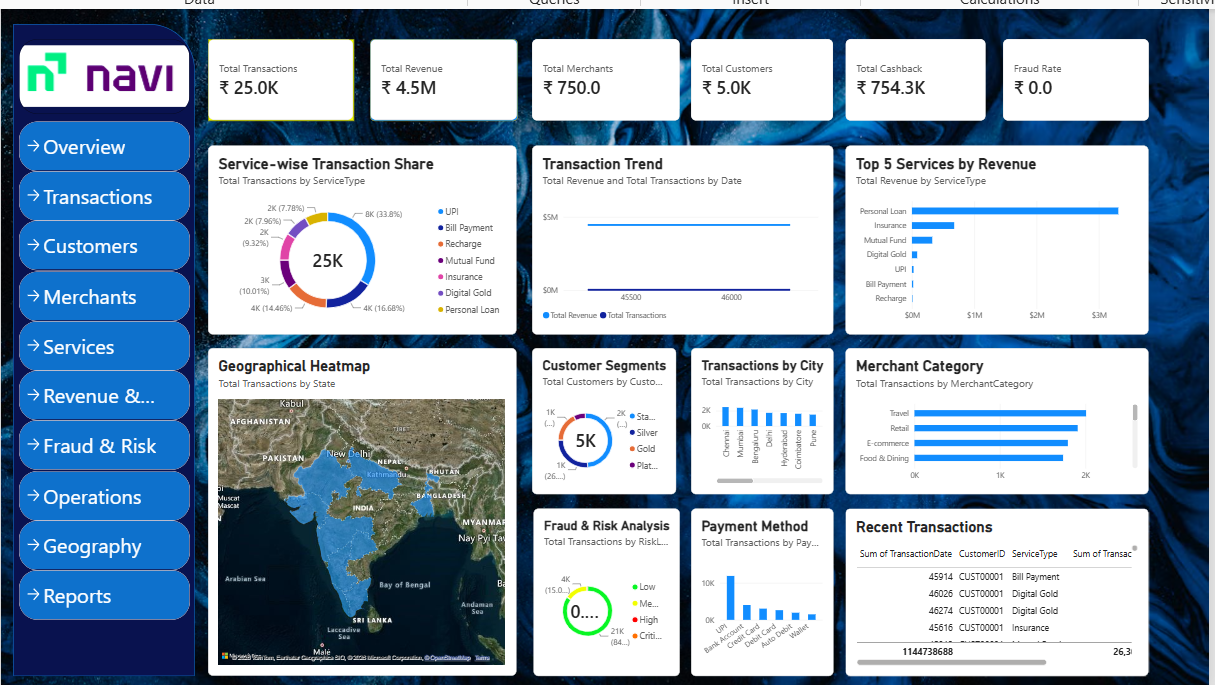

The page's visual inventory and layout, read from the dashboard file:
{"tool":"powerbi","page":{"name":"Overview","canvas":[1920,1080],"ordinal":1},"visuals":[{"type":"cardVisual","fields":{"Data":["_Measures.Total Transactions"]},"box":[328.8,48.2,232.4,130.4],"z":0},{"type":"cardVisual","fields":{"Data":["_Measures.Total Revenue"]},"box":[586.8,48.2,235.3,130.4],"z":1000},{"type":"cardVisual","fields":{"Data":["_Measures.Total Merchants"]},"box":[844.7,48.2,235.3,130.4],"z":2000},{"type":"cardVisual","fields":{"Data":["_Measures.Total Customers"]},"box":[1097,48.2,226.8,130.4],"z":3000},{"type":"cardVisual","fields":{"Data":["_Measures.Total Cashback"]},"box":[1343.6,48.2,223.9,130.4],"z":4000},{"type":"cardVisual","fields":{"Data":["_Measures.Fraud Rate"]},"box":[1593.1,48.2,232.4,130.4],"z":5000},{"type":"donutChart","title":"Service-wise Transaction Share","fields":{"Category":["FactTransactions.ServiceType"],"Y":["_Measures.Total Transactions"]},"box":[328.8,218.3,490.4,300.5],"z":6000},{"type":"lineChart","title":"Transaction Trend","fields":{"Category":["DimDate.Date"],"Y":["_Measures.Total Revenue","_Measures.Total Transactions"]},"box":[844.7,218.3,479.1,300.5],"z":7000},{"type":"clusteredBarChart","title":"Top 5 Services by Revenue","fields":{"Category":["FactTransactions.ServiceType"],"Y":["_Measures.Total Revenue"]},"box":[1343.6,218.3,481.9,300.5],"z":8000},{"type":"donutChart","title":"Customer Segments","fields":{"Category":["DimCustomer.CustomerSegment"],"Y":["_Measures.Total Customers"]},"box":[844.7,538.6,229.6,232.4],"z":9000},{"type":"clusteredColumnChart","title":"Transactions by City","fields":{"Category":["DimCustomer.City"],"Y":["_Measures.Total Transactions"]},"box":[1097,538.6,226.8,232.4],"z":10000},{"type":"clusteredBarChart","title":"Merchant Category","fields":{"Category":["DimMerchant.MerchantCategory"],"Y":["_Measures.Total Transactions"]},"box":[1343.6,538.6,481.9,232.4],"z":11000},{"type":"tableEx","title":"Recent Transactions","fields":{"Values":["Sum(FactTransactions.TransactionDate)","FactTransactions.CustomerID","FactTransactions.ServiceType","Sum(FactTransactions.TransactionAmount)","FactTransactions.TransactionStatus"]},"box":[1343.6,793.7,481.9,266.5],"z":12000},{"type":"filledMap","title":"Geographical Heatmap","fields":{"Category":["DimCustomer.State"]},"box":[328.8,538.6,490.4,521.6],"z":13000},{"type":"donutChart","title":"Fraud & Risk Analysis","fields":{"Category":["FactTransactions.RiskLevel"],"Y":["_Measures.Total Transactions"]},"box":[847.6,793.7,232.4,266.5],"z":14000},{"type":"clusteredColumnChart","title":"Payment Method","fields":{"Category":["FactTransactions.PaymentMethod"],"Y":["_Measures.Total Transactions"]},"box":[1097,793.7,226.8,266.5],"z":15000},{"type":"shape","box":[19.8,22.7,289.1,1037.5],"z":16000},{"type":"image","box":[28.3,48.2,272.1,119.1],"z":17000},{"type":"actionButton","box":[28.3,178.6,272.1,79.4],"z":18000},{"type":"actionButton","box":[28.3,258,272.1,79.4],"z":19000},{"type":"actionButton","box":[28.3,734.2,272.1,79.4],"z":20000},{"type":"actionButton","box":[28.3,654.8,272.1,79.4],"z":21000},{"type":"actionButton","box":[28.3,575.4,272.1,79.4],"z":22000},{"type":"actionButton","box":[28.3,337.3,272.1,79.4],"z":23000},{"type":"actionButton","box":[28.3,416.7,272.1,79.4],"z":24000},{"type":"actionButton","box":[28.3,496.1,272.1,79.4],"z":25000},{"type":"actionButton","box":[28.3,813.5,272.1,79.4],"z":26000},{"type":"actionButton","box":[28.3,892.9,272.1,79.4],"z":27000}]}

Visuals, with their boxes on the page's 1920x1080 design canvas (x1, y1, x2, y2). These are canvas units, not pixel positions in the 1215x685 screenshot, which may show the page scaled, cropped or inside an application window:
cardVisual - _Measures.Total Transactions: left=329, top=48, right=561, bottom=179
cardVisual - _Measures.Total Revenue: left=587, top=48, right=822, bottom=179
cardVisual - _Measures.Total Merchants: left=845, top=48, right=1080, bottom=179
cardVisual - _Measures.Total Customers: left=1097, top=48, right=1324, bottom=179
cardVisual - _Measures.Total Cashback: left=1344, top=48, right=1568, bottom=179
cardVisual - _Measures.Fraud Rate: left=1593, top=48, right=1826, bottom=179
"Service-wise Transaction Share" donutChart: left=329, top=218, right=819, bottom=519
"Transaction Trend" lineChart: left=845, top=218, right=1324, bottom=519
"Top 5 Services by Revenue" clusteredBarChart: left=1344, top=218, right=1826, bottom=519
"Customer Segments" donutChart: left=845, top=539, right=1074, bottom=771
"Transactions by City" clusteredColumnChart: left=1097, top=539, right=1324, bottom=771
"Merchant Category" clusteredBarChart: left=1344, top=539, right=1826, bottom=771
"Recent Transactions" tableEx: left=1344, top=794, right=1826, bottom=1060
"Geographical Heatmap" filledMap: left=329, top=539, right=819, bottom=1060
"Fraud & Risk Analysis" donutChart: left=848, top=794, right=1080, bottom=1060
"Payment Method" clusteredColumnChart: left=1097, top=794, right=1324, bottom=1060
shape: left=20, top=23, right=309, bottom=1060
image: left=28, top=48, right=300, bottom=167
actionButton: left=28, top=179, right=300, bottom=258
actionButton: left=28, top=258, right=300, bottom=337
actionButton: left=28, top=734, right=300, bottom=814
actionButton: left=28, top=655, right=300, bottom=734
actionButton: left=28, top=575, right=300, bottom=655
actionButton: left=28, top=337, right=300, bottom=417
actionButton: left=28, top=417, right=300, bottom=496
actionButton: left=28, top=496, right=300, bottom=576
actionButton: left=28, top=814, right=300, bottom=893
actionButton: left=28, top=893, right=300, bottom=972
